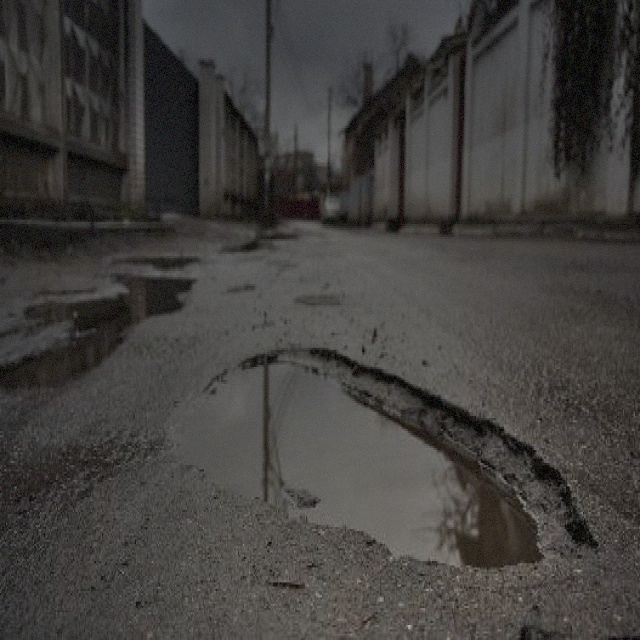pothole: (168, 339, 595, 572)
